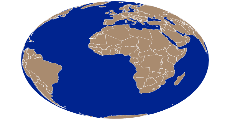

What the dashboard file says about the page in this screenshot:
{"tool":"powerbi","page":{"name":"Page 1","canvas":[1280,720],"ordinal":0},"visuals":[{"type":"filledMap","fields":{"Size":["Sum(agri.total)"],"Category":["agri.state"]},"box":[1.4,138.3,1277.3,580.3],"z":1}]}

Visuals, with their boxes on the page's 1280x720 design canvas (x1, y1, x2, y2). These are canvas units, not pixel positions in the 230x120 screenshot, which may show the page scaled, cropped or inside an application window:
filledMap - Sum(agri.total) x agri.state: rect(1, 138, 1279, 719)
